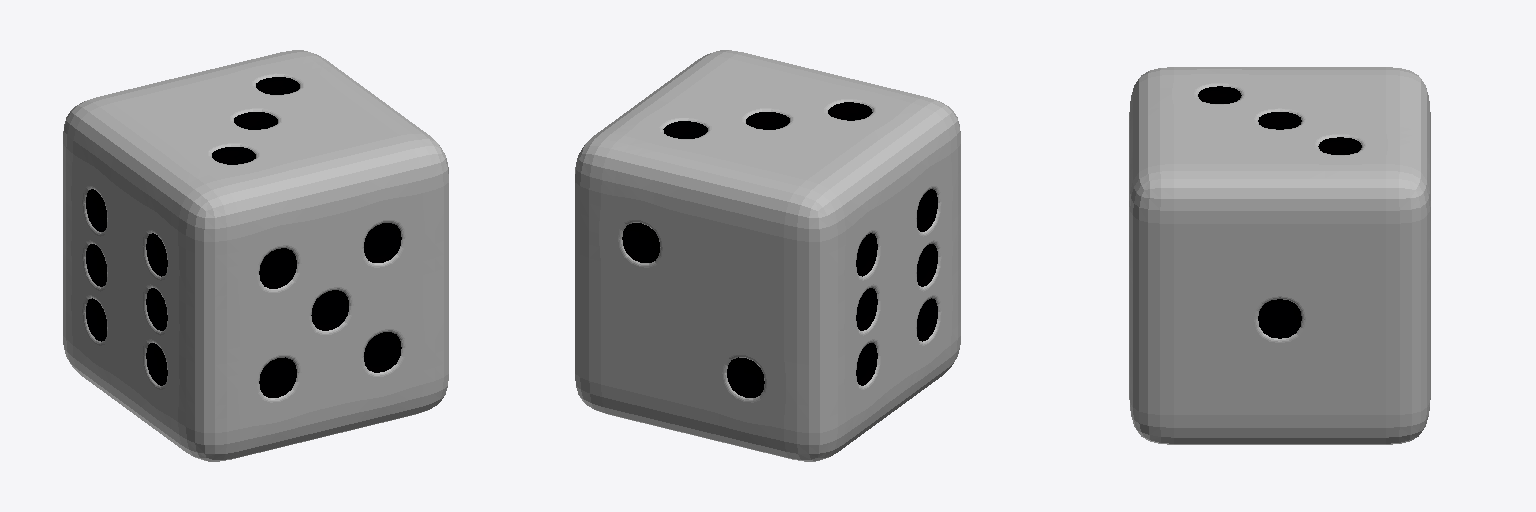
Rendered from Dice.obj.
3 views of the same model, side by side, from view 1: azimuth 30°, elevation 25°; view 2: azimuth 150°, elevation 25°; view 3: azimuth 270°, elevation 25° (orthographic).
Parts seen in each view (by area): view 1: Cube.001; view 2: Cube.001; view 3: Cube.001.
Part boxes in pixels (bbox=[...]): Cube.001: bbox=[63, 50, 448, 461]; Cube.001: bbox=[575, 50, 960, 461]; Cube.001: bbox=[1129, 67, 1430, 444].
Size of the model in its own units: 2 by 2 by 2.